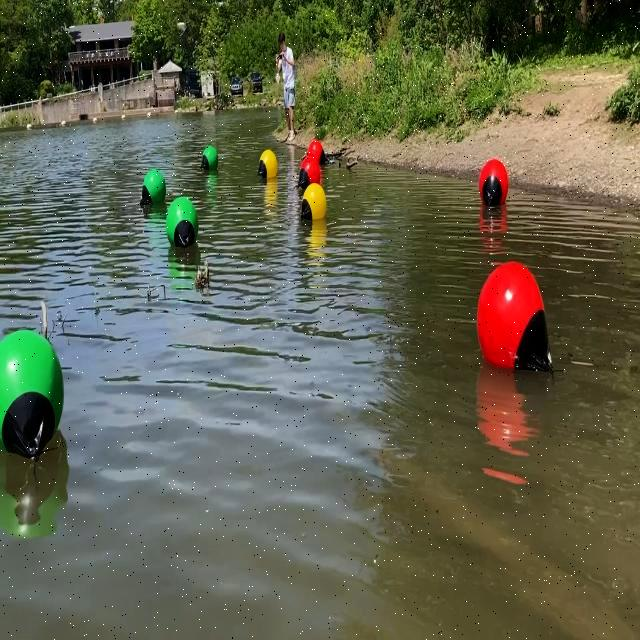buoy: (475, 258, 553, 383), (0, 329, 64, 462), (166, 194, 199, 247), (480, 160, 508, 204), (140, 168, 166, 209), (302, 182, 326, 220), (258, 150, 278, 183), (300, 156, 320, 189), (308, 138, 328, 170), (202, 145, 218, 170)
